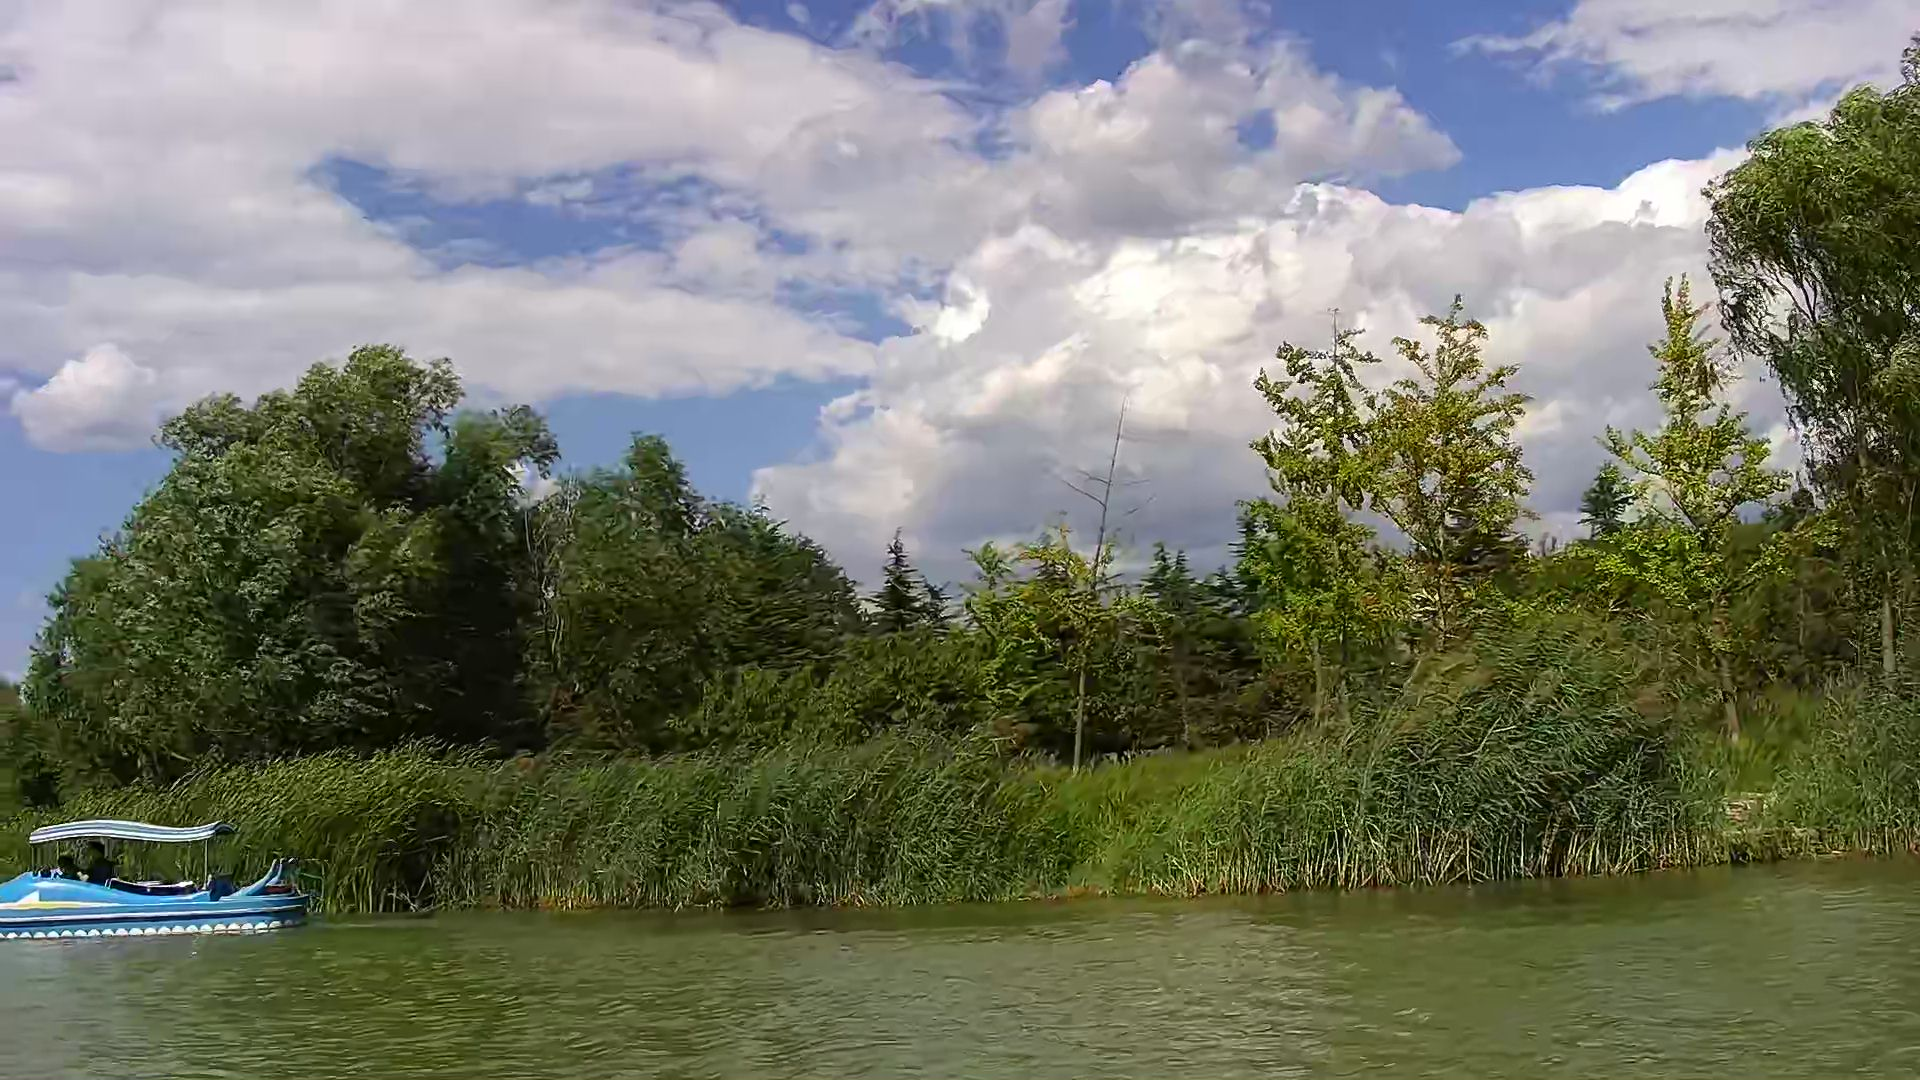boat: (1, 825, 307, 938)
